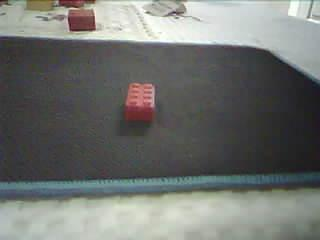lego: (124, 82, 156, 122), (67, 8, 96, 31), (25, 1, 54, 11), (58, 1, 85, 7)
